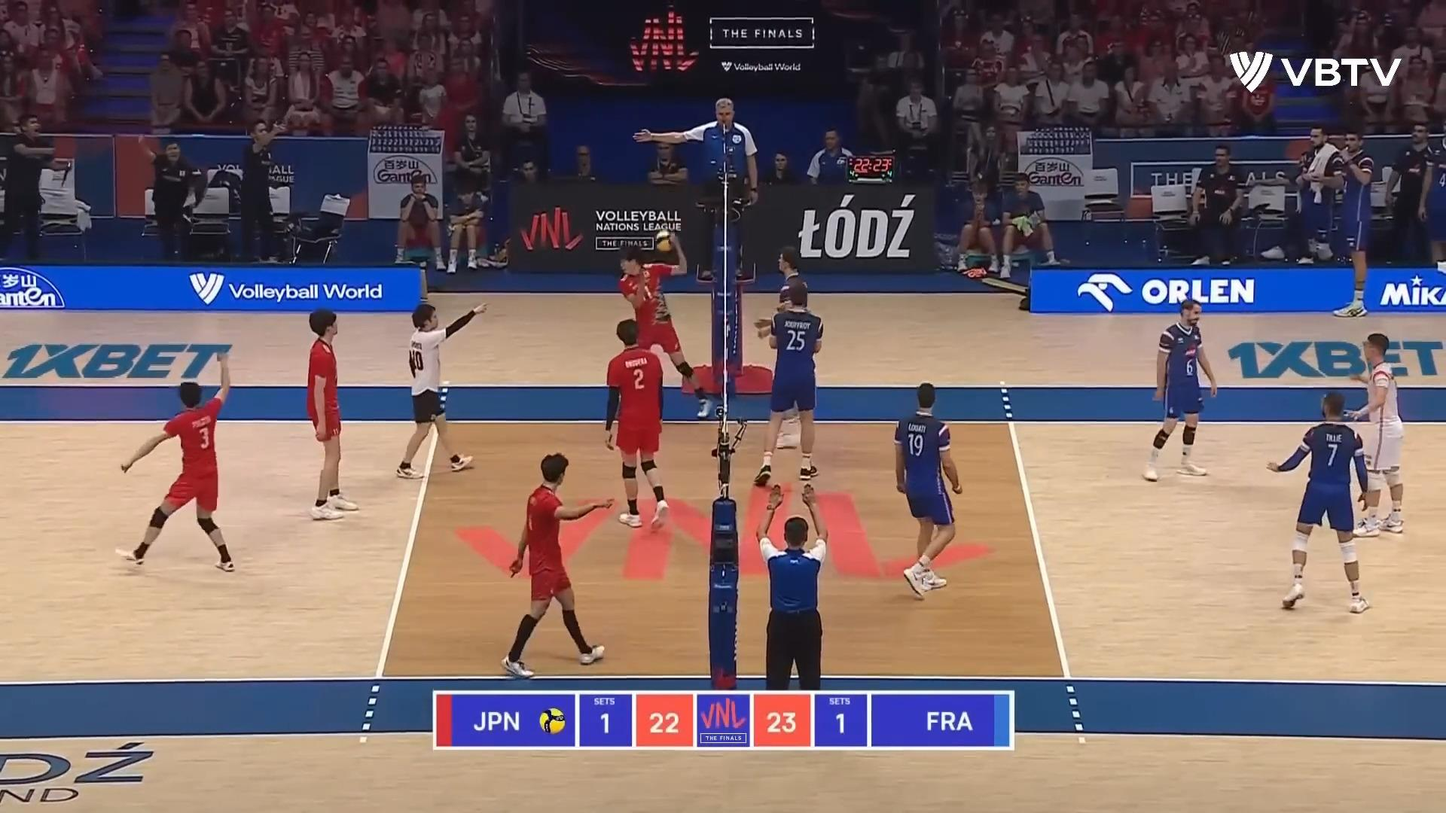ball: (653, 230, 678, 254)
